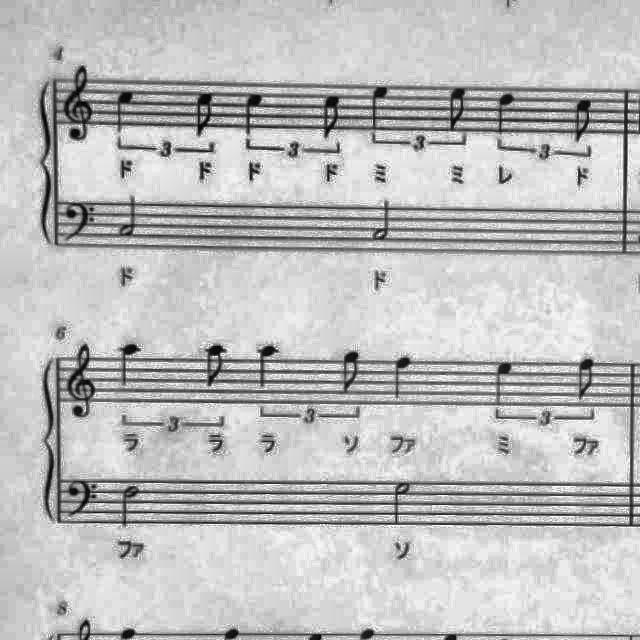Bass-clef: (59, 196, 101, 248), (64, 473, 104, 523)
Eighth-note: (198, 336, 234, 392), (188, 86, 224, 142), (316, 88, 348, 142), (568, 91, 600, 145), (442, 82, 474, 134), (573, 354, 603, 406), (336, 348, 366, 400)
Half-note: (112, 190, 144, 242), (115, 480, 146, 532), (368, 194, 399, 244), (388, 476, 417, 528)
Quarter-note: (362, 79, 398, 135), (488, 357, 520, 415), (114, 337, 148, 391), (108, 84, 140, 140), (250, 340, 284, 392), (238, 86, 270, 140), (490, 86, 520, 138), (388, 352, 417, 404)
Treble-clef: (58, 64, 100, 148), (64, 339, 102, 425)
